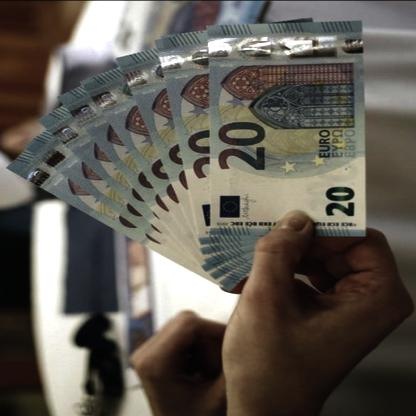euro_banknote: (180, 52, 397, 209)
